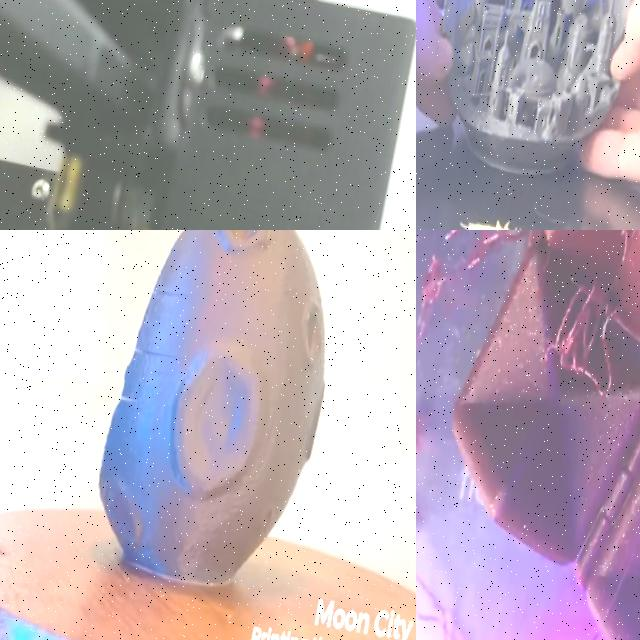spaghetti: (416, 230, 551, 582), (544, 274, 624, 392)
